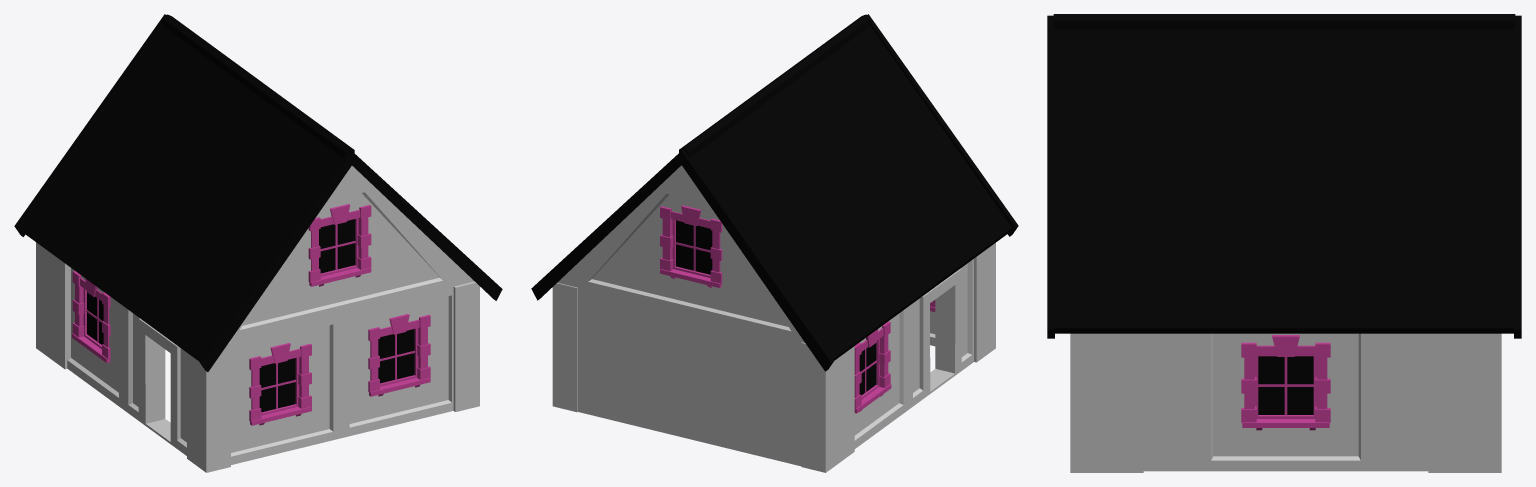
Rendered from SM_security_booth.fbx.
The picture shows the model from 3 angles, left to right: view 1: azimuth 30°, elevation 25°; view 2: azimuth 150°, elevation 25°; view 3: azimuth 270°, elevation 25°; orthographic projection. The views are drawn at different scales.
Visible parts, largest first — view 1: Cube_14, Cube_12; view 2: Cube_14, Cube_12; view 3: Cube_12, Cube_14.
Part boxes in pixels (bbox=[...]): Cube_14: bbox=[36, 166, 479, 472]; Cube_12: bbox=[14, 14, 502, 371]; Cube_14: bbox=[552, 165, 995, 472]; Cube_12: bbox=[531, 14, 1018, 371]; Cube_12: bbox=[1047, 14, 1521, 338]; Cube_14: bbox=[1070, 333, 1501, 472].
Bounding box in the file's own units: 759 × 715 × 820.
